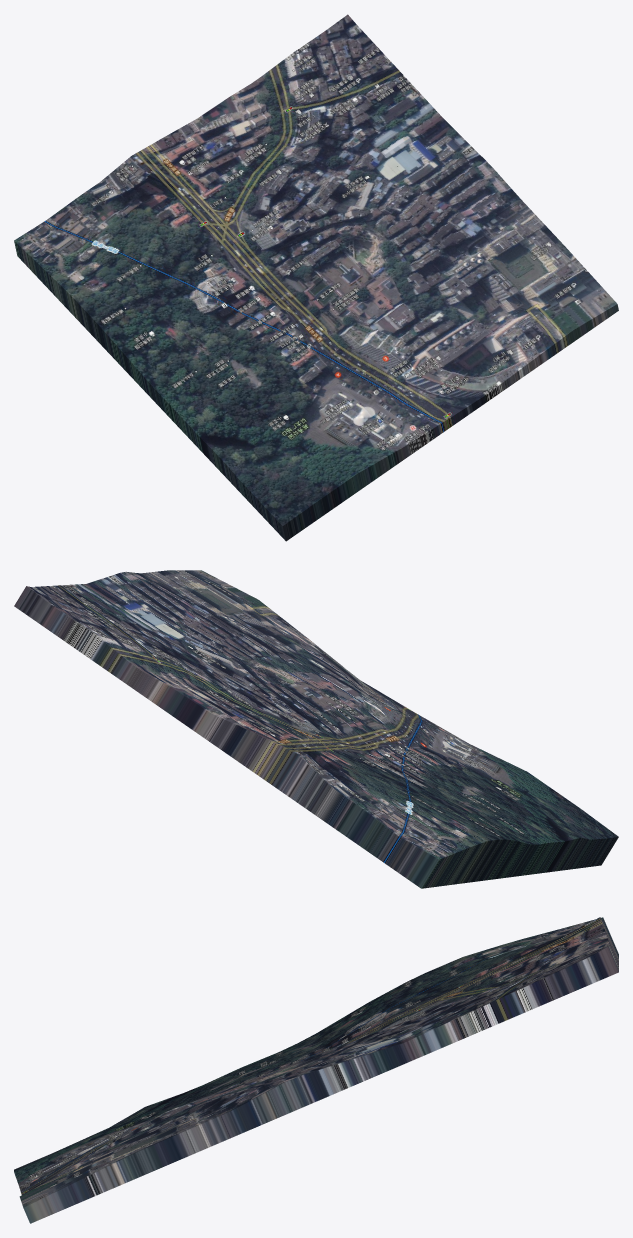
3 views of the same model, one above another, from view 1: azimuth 30°, elevation 25°; view 2: azimuth 150°, elevation 25°; view 3: azimuth 270°, elevation 25° (orthographic). The views are drawn at different scales.
Visible parts, largest first — view 1: 0_7_10; view 2: 0_7_10; view 3: 0_7_10.
Boxes of the visible parts, x1=… form: 0_7_10: x1=14, y1=14, x2=618, y2=541; 0_7_10: x1=14, y1=570, x2=618, y2=888; 0_7_10: x1=14, y1=917, x2=618, y2=1223.
Bounding box in the file's own units: 606 × 450 × 557.
Materials: 1 (1 with a texture image).
